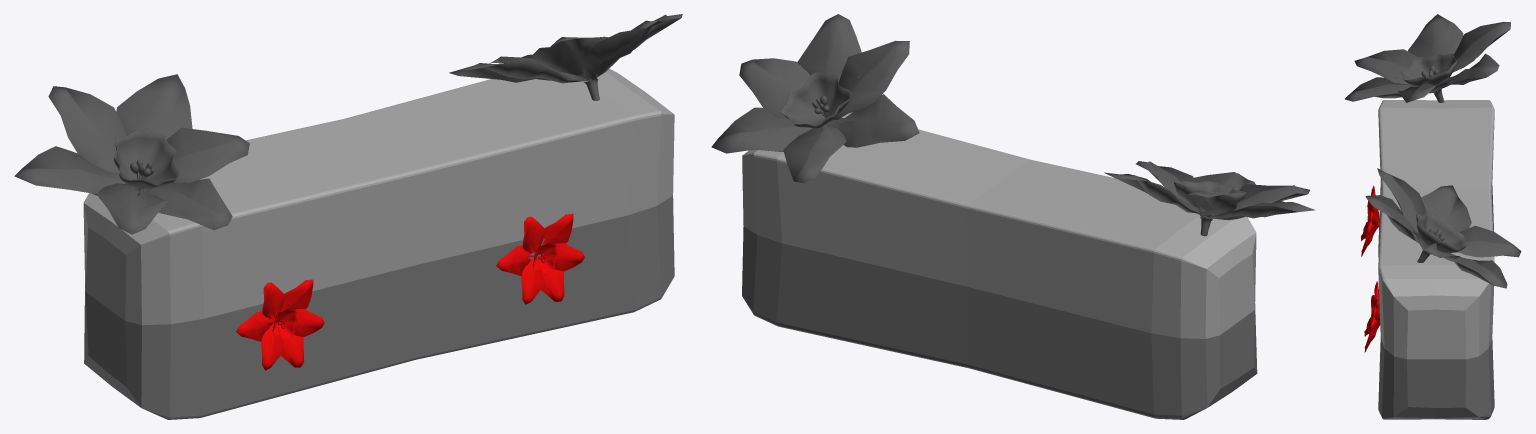
The model's file is PL_MEDIANA_GEO.fbx.
The picture shows the model from 3 angles, left to right: view 1: azimuth 30°, elevation 25°; view 2: azimuth 150°, elevation 25°; view 3: azimuth 270°, elevation 25°; orthographic projection. The views are drawn at different scales.
Parts seen in each view (by area): view 1: PL_Corto_DOWN7, Daffodil.yellow, Daffodil.yellow1, Daffodil.yellow2, Daffodil.yellow3; view 2: PL_Corto_DOWN7, Daffodil.yellow1, Daffodil.yellow; view 3: PL_Corto_DOWN7, Daffodil.yellow, Daffodil.yellow1, Daffodil.yellow3, Daffodil.yellow2.
Boxes of the visible parts, x1,y1,x2,y2 form: PL_Corto_DOWN7: (83,68,674,419); Daffodil.yellow: (14,74,249,234); Daffodil.yellow1: (449,14,682,100); Daffodil.yellow2: (236,279,324,370); Daffodil.yellow3: (496,213,584,304); PL_Corto_DOWN7: (742,112,1257,419); Daffodil.yellow1: (711,14,919,183); Daffodil.yellow: (1104,161,1315,236); PL_Corto_DOWN7: (1378,100,1494,419); Daffodil.yellow: (1345,14,1510,102); Daffodil.yellow1: (1365,168,1521,288); Daffodil.yellow3: (1364,281,1380,352); Daffodil.yellow2: (1361,185,1380,256).
Bounding box in the file's own units: 4.82 × 2.04 × 1.49.
